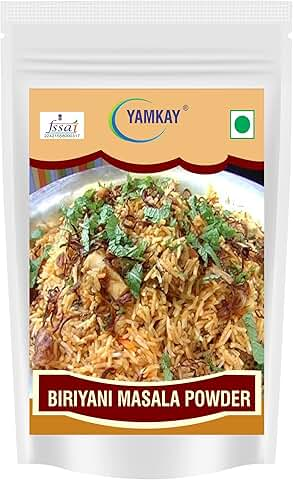Biryani: (4, 10, 283, 475)
